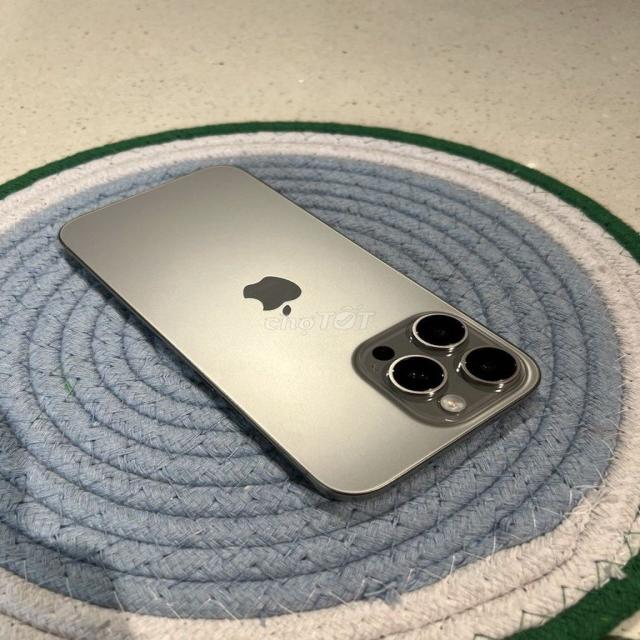gen_15: (40, 153, 553, 504)
